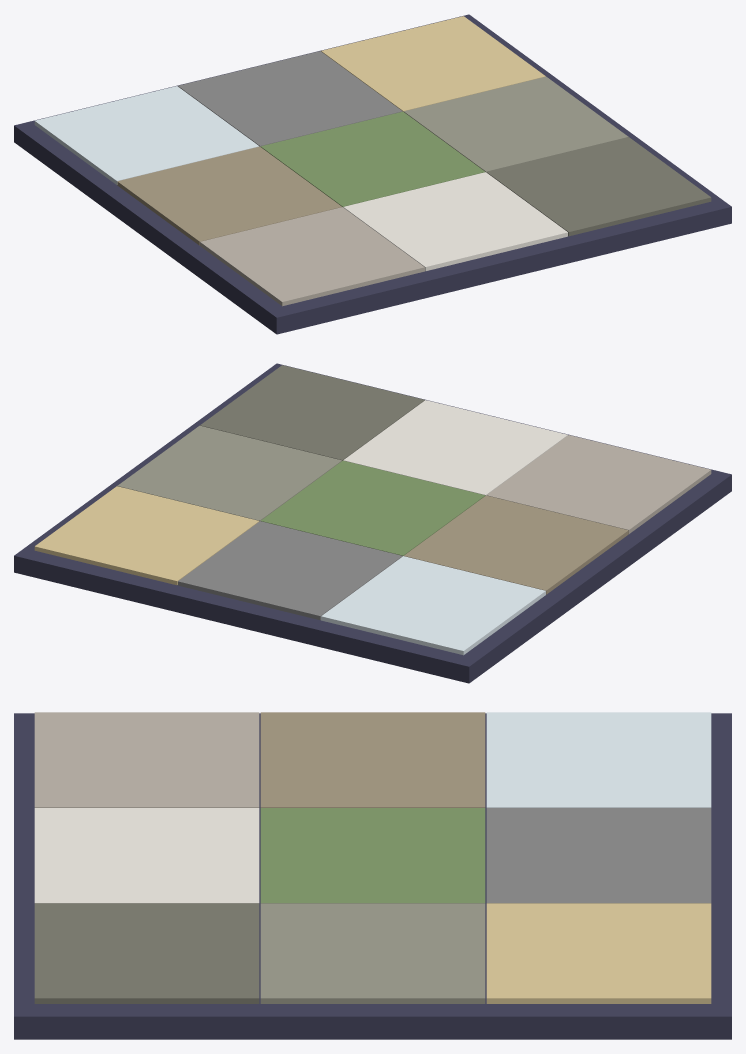
Rendered from ground.glb.
3 views of the same model, one above another, from view 1: azimuth 30°, elevation 25°; view 2: azimuth 150°, elevation 25°; view 3: azimuth 270°, elevation 25° (orthographic). The views are drawn at different scales.
Visible parts, largest first — view 1: Cube, Cube.007, Cube.009, Cube.008, Cube.001, Cube.004, Cube.003, Cube.006, Cube.002, Cube.005; view 2: Cube, Cube.001, Cube.003, Cube.002, Cube.007, Cube.004, Cube.006, Cube.009, Cube.005, Cube.008; view 3: Cube, Cube.003, Cube.006, Cube.009, Cube.001, Cube.004, Cube.007, Cube.002, Cube.005, Cube.008.
Part boxes in pixels (left/top/right/bottom): Cube: left=14, top=14, right=731, bottom=334; Cube.007: left=200, top=207, right=424, bottom=306; Cube.009: left=486, top=137, right=711, bottom=236; Cube.008: left=343, top=172, right=567, bottom=271; Cube.001: left=34, top=86, right=259, bottom=184; Cube.004: left=117, top=146, right=341, bottom=245; Cube.003: left=321, top=16, right=545, bottom=111; Cube.006: left=403, top=76, right=628, bottom=172; Cube.002: left=178, top=51, right=402, bottom=146; Cube.005: left=260, top=111, right=484, bottom=206; Cube: left=14, top=363, right=731, bottom=683; Cube.001: left=321, top=556, right=545, bottom=655; Cube.003: left=34, top=486, right=259, bottom=585; Cube.002: left=178, top=521, right=402, bottom=620; Cube.007: left=486, top=435, right=711, bottom=533; Cube.004: left=404, top=495, right=628, bottom=594; Cube.006: left=117, top=425, right=342, bottom=521; Cube.009: left=200, top=365, right=424, bottom=460; Cube.005: left=261, top=460, right=485, bottom=555; Cube.008: left=343, top=400, right=567, bottom=495; Cube: left=14, top=713, right=731, bottom=1039; Cube.003: left=486, top=903, right=711, bottom=1003; Cube.006: left=260, top=903, right=485, bottom=1003; Cube.009: left=34, top=903, right=259, bottom=1003; Cube.001: left=486, top=712, right=711, bottom=807; Cube.004: left=260, top=712, right=485, bottom=807; Cube.007: left=34, top=712, right=259, bottom=807; Cube.002: left=486, top=808, right=711, bottom=903; Cube.005: left=260, top=808, right=485, bottom=903; Cube.008: left=34, top=808, right=259, bottom=903.
Size of the model in its own units: 34 by 1.7 by 34.
